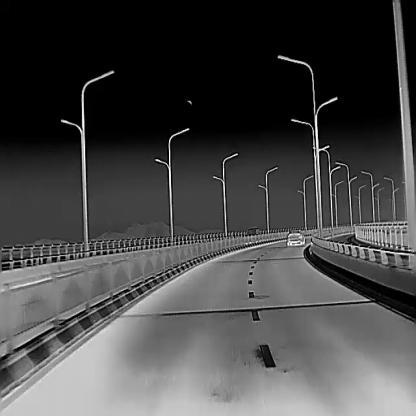car: (286, 229, 304, 246), (245, 226, 259, 234)
